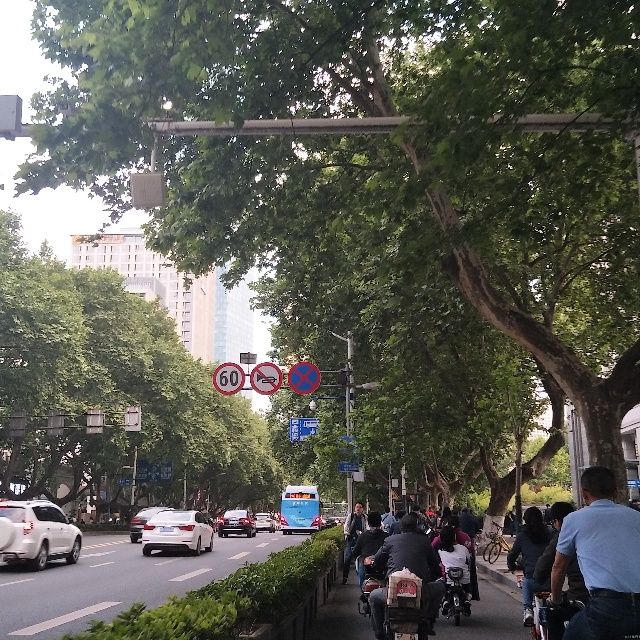nohonk: (249, 364, 285, 398)
stop: (288, 362, 323, 399)
